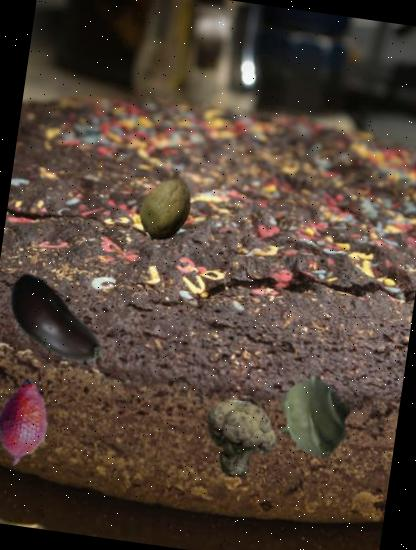Cauliflower: (198, 396, 286, 486)
Eggplant: (0, 258, 120, 394)
Kohlrabi: (266, 370, 364, 467)
Papaya: (132, 174, 202, 246)
Salak: (0, 372, 73, 473)
